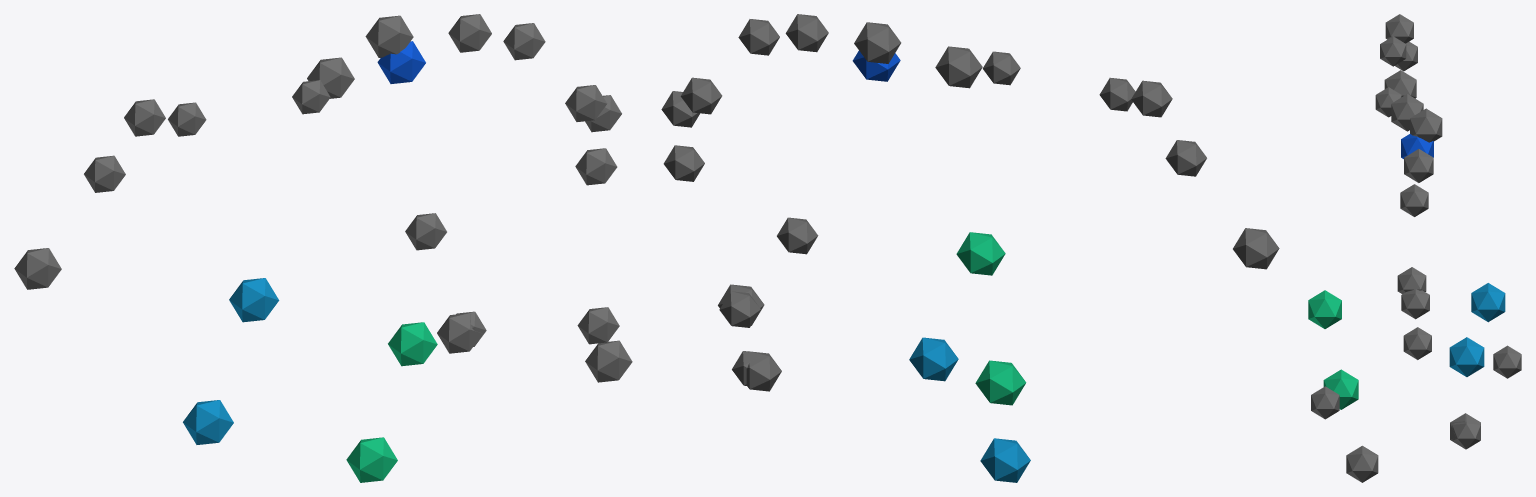
3 renders of one model, left to right at view 1: azimuth 30°, elevation 25°; view 2: azimuth 150°, elevation 25°; view 3: azimuth 270°, elevation 25°, orthographic. The views are drawn at different scales.
Visible parts, largest first — view 1: 09_06_01; view 2: 09_06_01; view 3: 09_06_01.
Part boxes in pixels (x1=…): 09_06_01: x1=14, y1=14, x2=632, y2=482; 09_06_01: x1=661, y1=14, x2=1279, y2=482; 09_06_01: x1=1308, y1=14, x2=1521, y2=482.
Size of the model in its own units: 0.6522 by 0.417 by 0.252.
